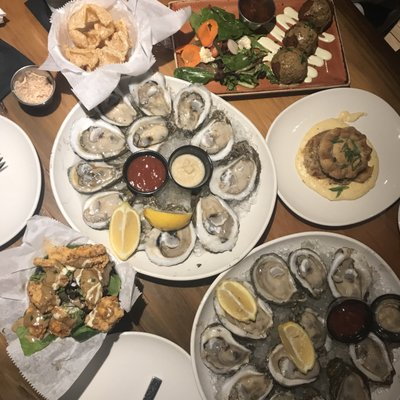sandwich: (141, 376, 163, 400)
sushi: (265, 87, 400, 229)
taco: (108, 203, 141, 262)
